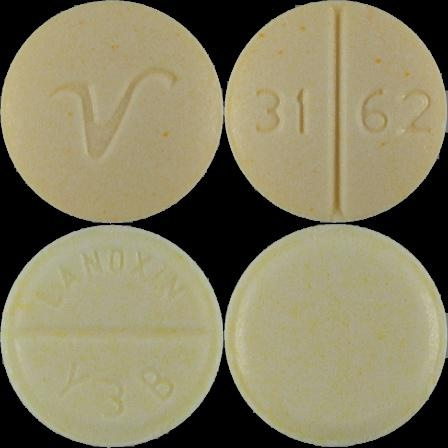53808-1004: (0, 0, 224, 224)
